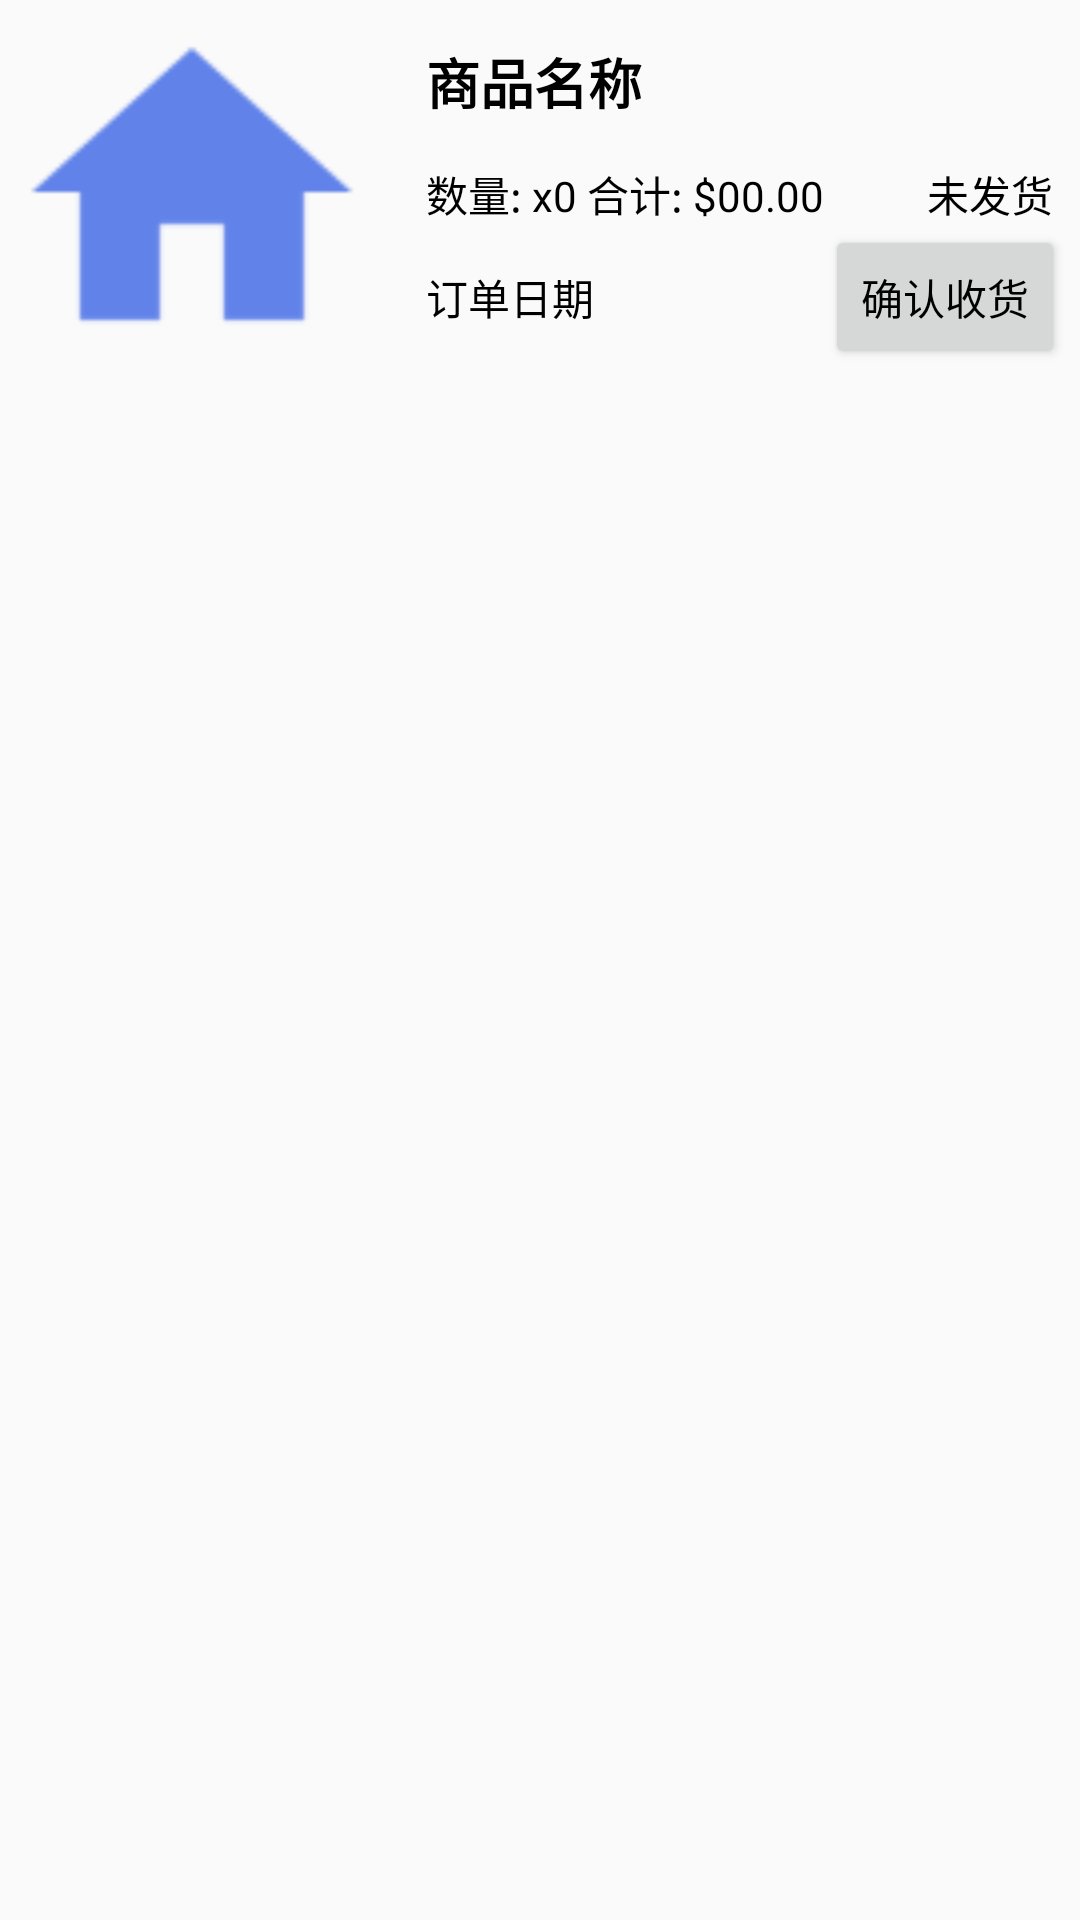

Icon bounding boxes for this 1080 x 1920 phone screenshot, format (x1, y1, x2, y2):
home: (32, 47, 352, 322)
